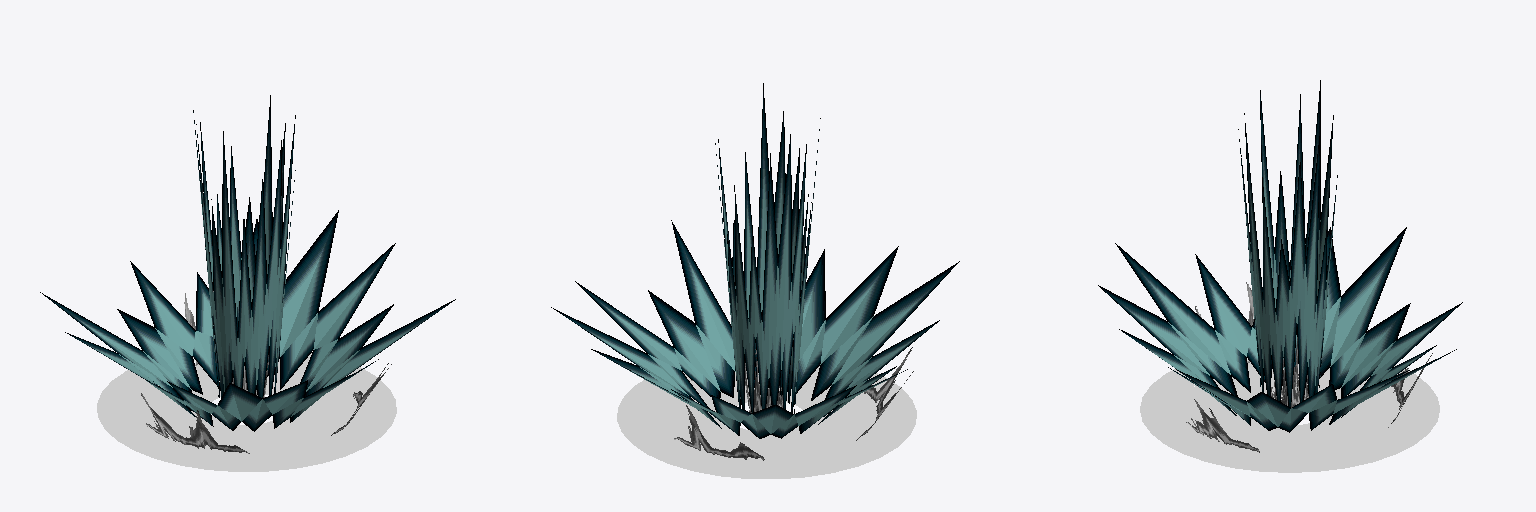
3 views of the same model, side by side, from view 1: azimuth 30°, elevation 25°; view 2: azimuth 150°, elevation 25°; view 3: azimuth 270°, elevation 25° (orthographic).
Parts seen in each view (by area): view 1: polygon3, polygon4, polygon2, polygon5; view 2: polygon3, polygon4, polygon2, polygon5; view 3: polygon3, polygon4, polygon2, polygon5.
Part boxes in pixels (x1,y1,x2,y2): polygon3: (40, 210, 455, 431); polygon4: (97, 353, 396, 471); polygon2: (193, 95, 295, 397); polygon5: (141, 293, 391, 453); polygon3: (551, 220, 959, 438); polygon4: (617, 366, 916, 478); polygon2: (715, 83, 820, 413); polygon5: (674, 347, 913, 460); polygon3: (1098, 227, 1462, 432); polygon4: (1140, 362, 1439, 472); polygon2: (1238, 80, 1337, 406); polygon5: (1186, 282, 1432, 452).
Size of the model in its own units: 33.81 by 30 by 32.05.
5 materials, 2 textured.